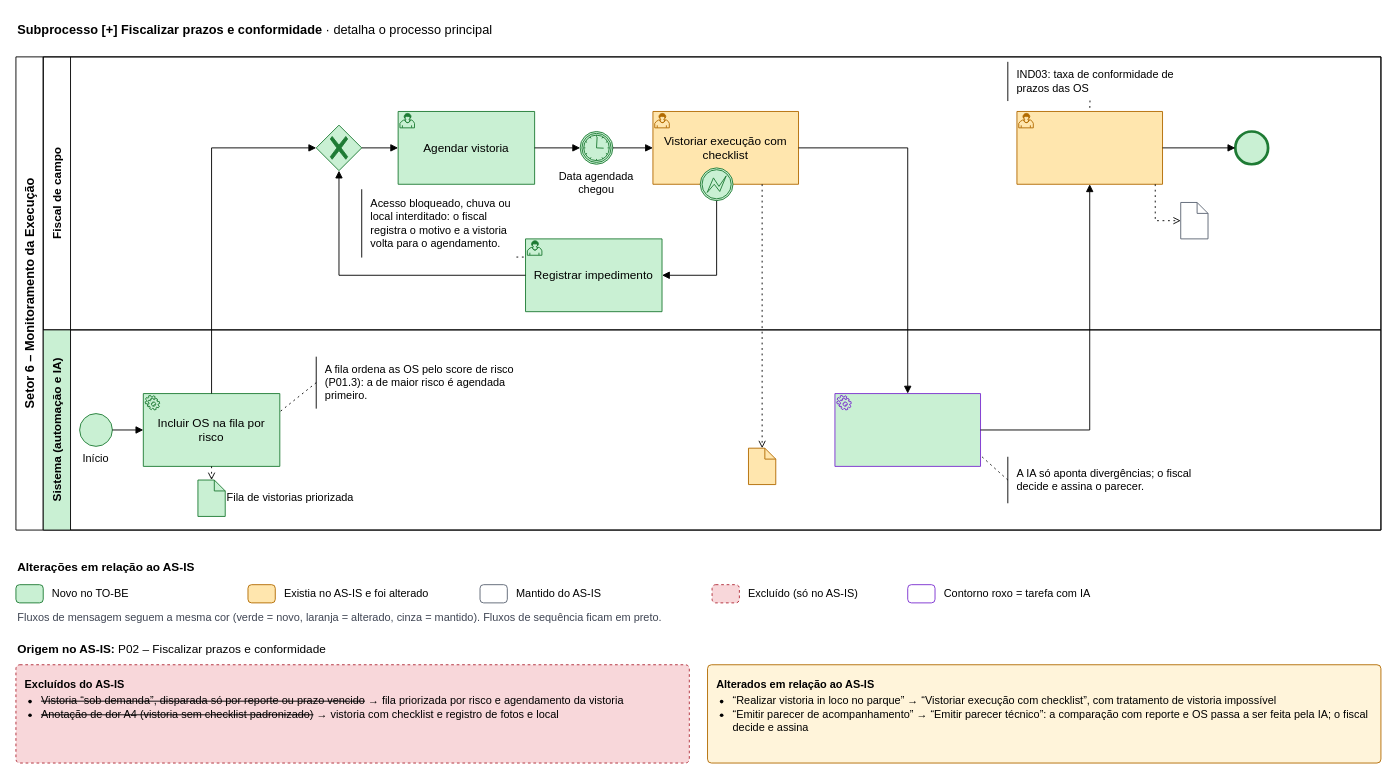
Image size: 1397x779. Some labels were removed from this diagram. The shapes that lost their labels are listed below. From the top down, each one's centre as x and y in pixels, then its label:
At point (1089, 147): "Emitir parecer técnico".
At point (1251, 147): "Parecer emitido".
At point (716, 184): "Vistoria impossível".
At point (1194, 220): "Parecer técnico assinado".
At point (907, 429): "Comparar vistoria com reporte e OS".
At point (762, 466): "Registro da vistoria (fotos, checklist e local)".
